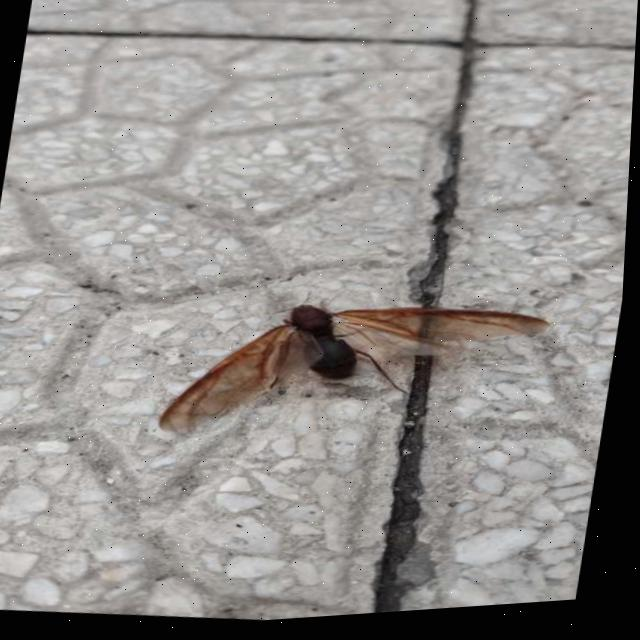Alive-Female-Alate: (160, 267, 560, 475)
